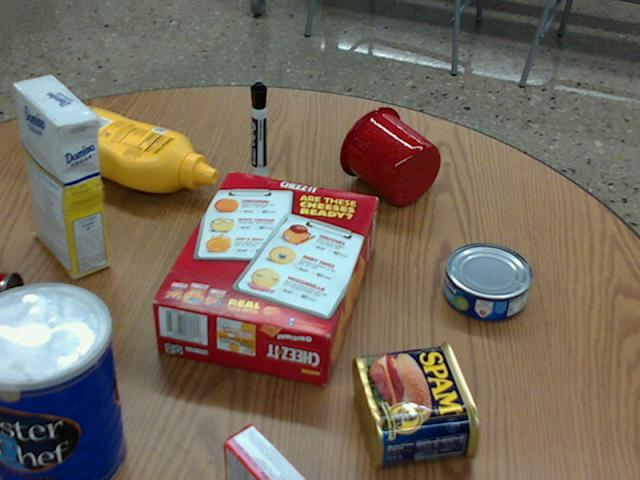cracker_box: (152, 173, 377, 383)
gelatin_box: (222, 422, 305, 479)
large_marker: (250, 82, 266, 178)
master_chef_can: (0, 281, 123, 479)
mug: (339, 106, 440, 205)
mustard_bottle: (46, 107, 216, 192)
potted_meat_can: (353, 341, 479, 467)
sugar_box: (15, 75, 106, 278)
tomato_soup_can: (0, 270, 24, 346)
tuna_fish_can: (443, 242, 532, 320)
